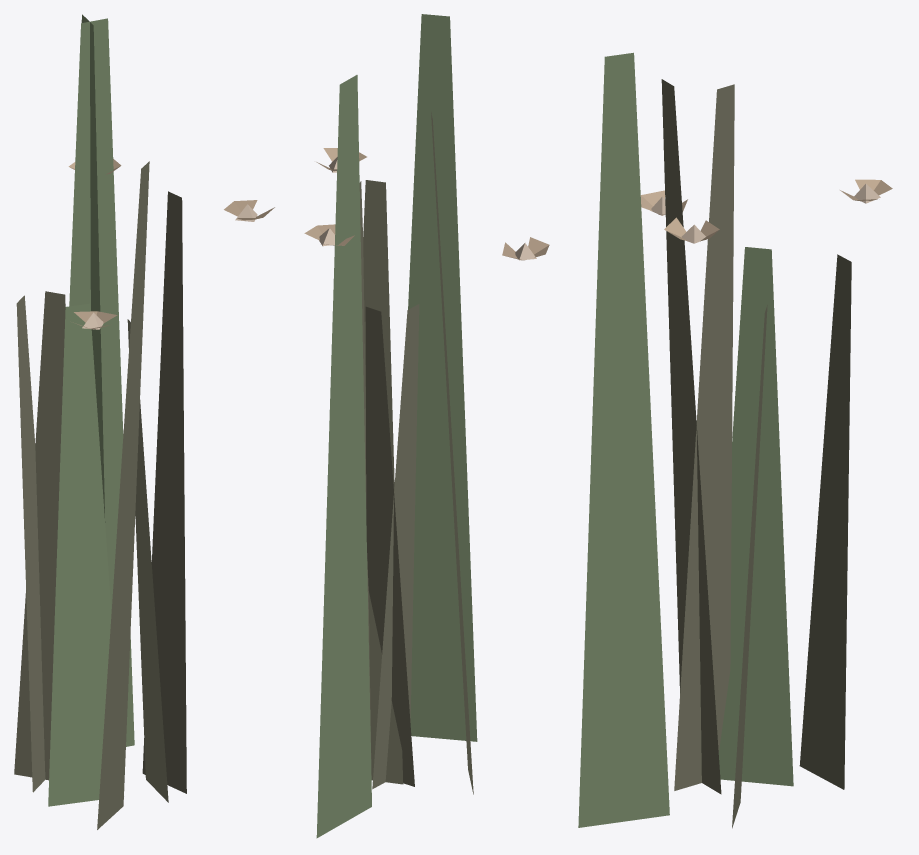
File: shui.pucao__winter.glb
3 views of the same model, side by side, from view 1: azimuth 30°, elevation 25°; view 2: azimuth 150°, elevation 25°; view 3: azimuth 270°, elevation 25° (orthographic). The views are drawn at different scales.
Parts seen in each view (by area): view 1: shui.pucao__winter; view 2: shui.pucao__winter; view 3: shui.pucao__winter.
Part boxes in pixels (<box>): shui.pucao__winter: <box>14,14,274,829</box>; shui.pucao__winter: <box>304,14,549,838</box>; shui.pucao__winter: <box>578,52,892,828</box>.
Size of the model in its own units: 0.6381 by 2.11 by 0.7877.
